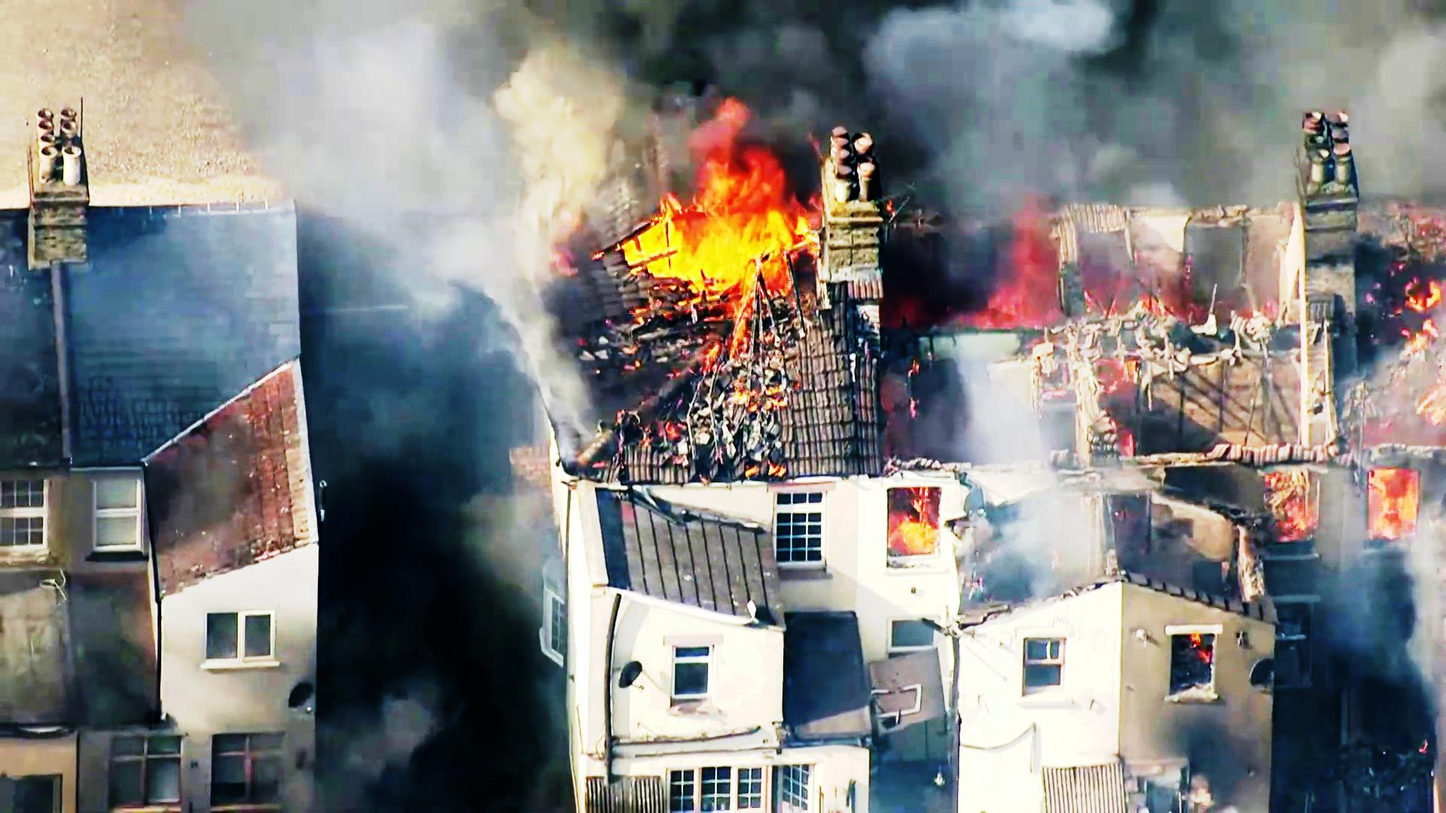fire: (614, 132, 843, 303)
smoke: (1004, 0, 1446, 179)
